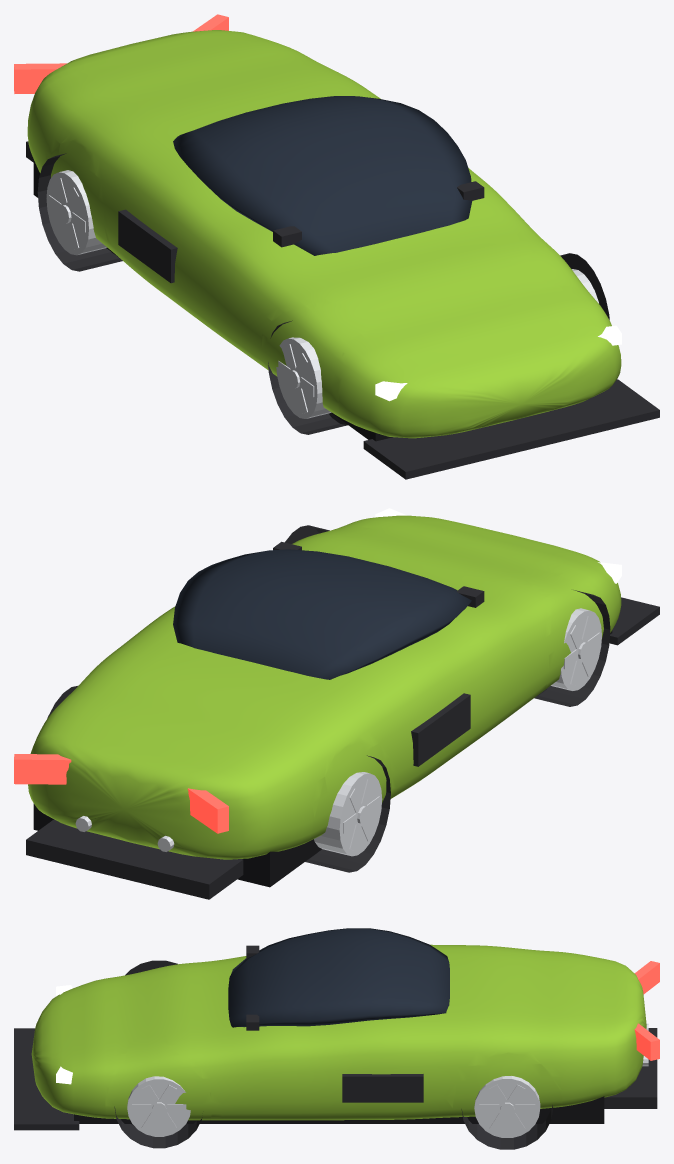
The model's file is temerario.glb.
The picture shows the model from 3 angles, top to bottom: view 1: azimuth 30°, elevation 25°; view 2: azimuth 150°, elevation 25°; view 3: azimuth 270°, elevation 25°; orthographic projection. The views are drawn at different scales.
Visible parts, largest first — view 1: Body, Glass, Splitter, Wheel_RL, Wheel_FL, Intake, Taillight, Wheel_FR; view 2: Body, Glass, Diffuser, Wheel_RL, Wheel_FL, Intake, Underbody, Taillight.001, Splitter, Taillight; view 3: Body, Glass, Wheel_RR, Wheel_FR, Splitter, Underbody, Intake.001, Diffuser, Taillight.001, Taillight, Wheel_FL.
Part boxes in pixels (x1,y1,x2,y2): Body: [27, 30, 621, 438]; Glass: [173, 96, 472, 255]; Splitter: [363, 379, 659, 479]; Wheel_RL: [37, 153, 122, 271]; Wheel_FL: [268, 320, 347, 434]; Intake: [118, 209, 177, 283]; Taillight: [14, 63, 66, 93]; Wheel_FR: [560, 253, 609, 319]; Body: [28, 515, 621, 859]; Glass: [173, 549, 471, 679]; Diffuser: [26, 819, 243, 899]; Wheel_RL: [305, 755, 390, 872]; Wheel_FL: [534, 590, 610, 706]; Intake: [411, 693, 470, 766]; Underbody: [33, 630, 612, 887]; Taillight.001: [14, 754, 71, 784]; Splitter: [609, 597, 659, 645]; Taillight: [187, 788, 228, 833]; Body: [31, 944, 646, 1120]; Glass: [228, 928, 449, 1027]; Wheel_RR: [461, 1076, 552, 1149]; Wheel_FR: [114, 1076, 202, 1148]; Splitter: [14, 1028, 79, 1130]; Underbody: [74, 1096, 604, 1123]; Intake.001: [342, 1074, 423, 1102]; Diffuser: [604, 1028, 657, 1108]; Taillight.001: [634, 1023, 659, 1060]; Taillight: [635, 961, 659, 994]; Wheel_FL: [125, 960, 177, 975].
Bounding box in the file's own units: 2.05 × 1.17 × 4.94.
